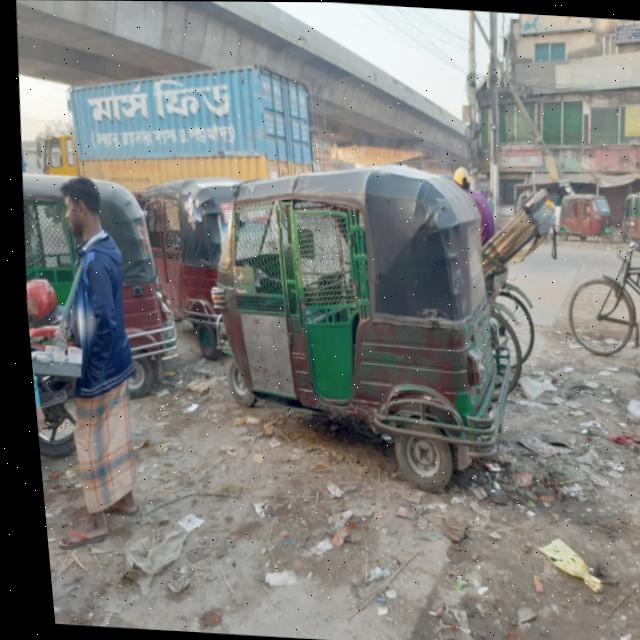cng: (199, 139, 530, 529)
